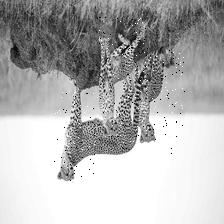Cheetha: (100, 16, 147, 148), (140, 47, 186, 153), (55, 91, 96, 186)
